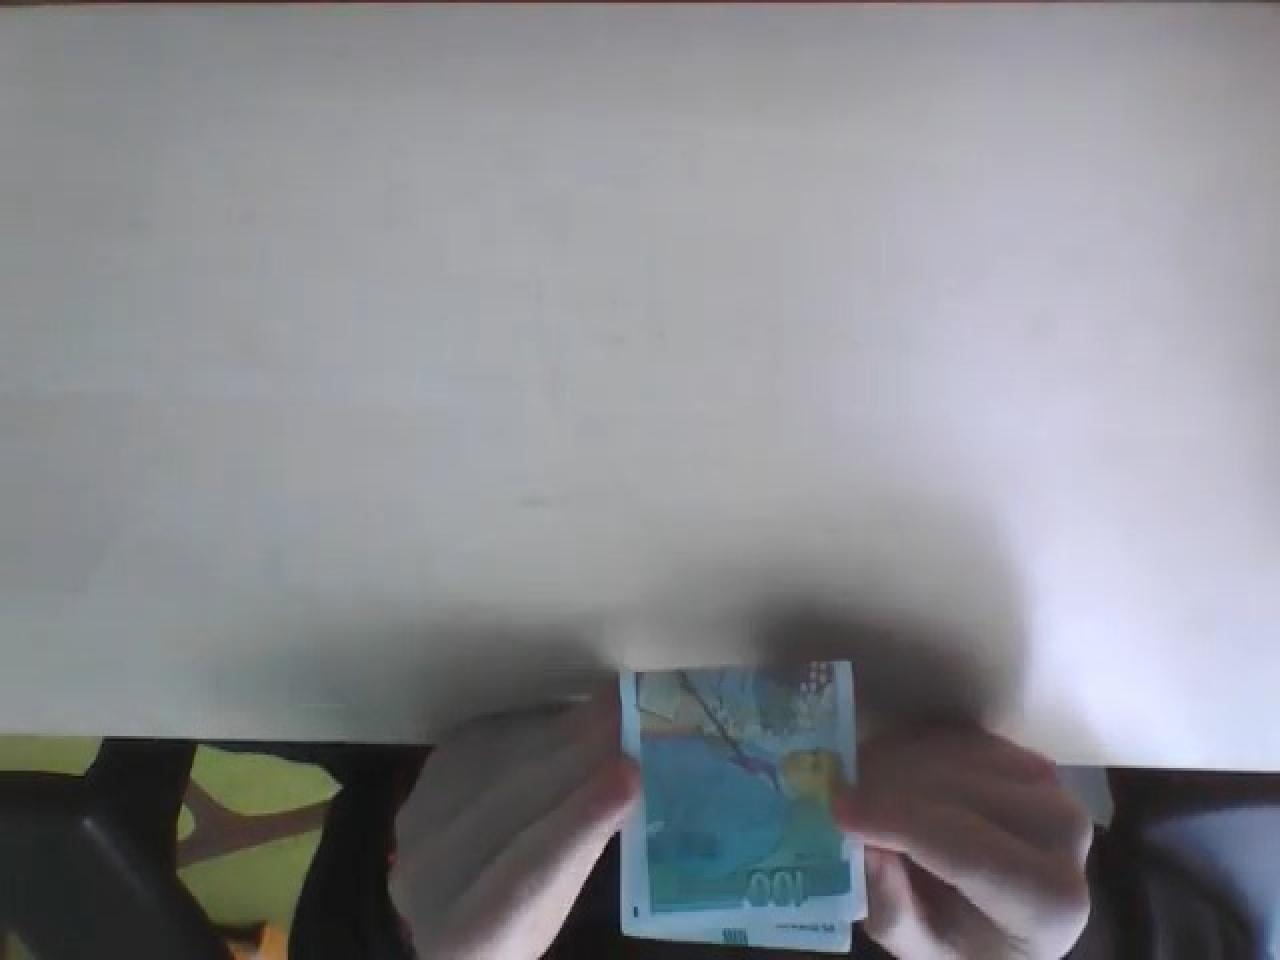100leva: (618, 656, 868, 952)
